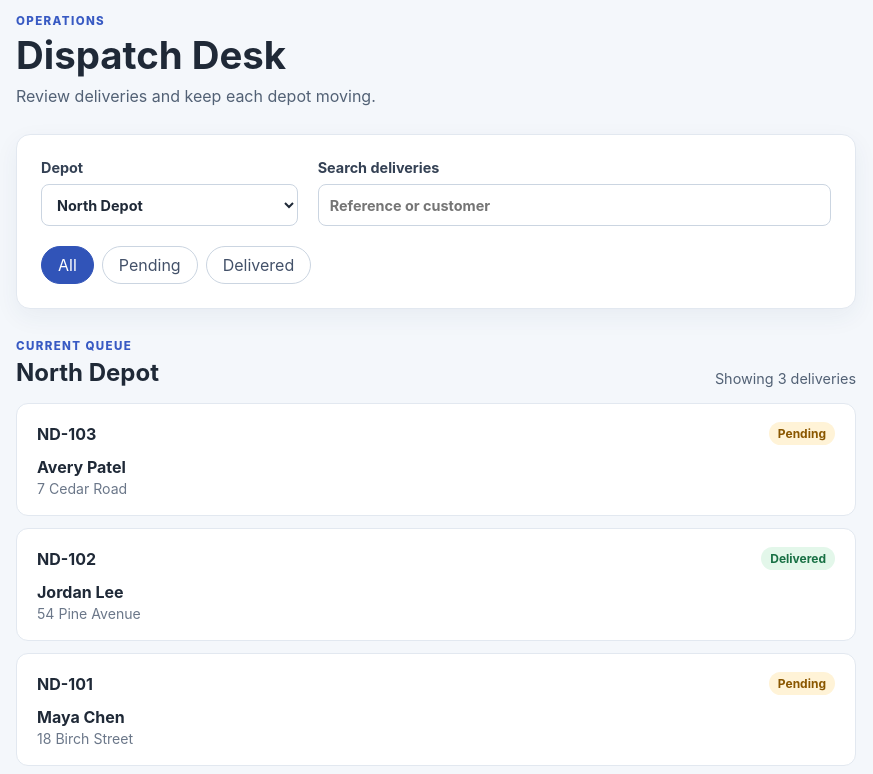
it: dispatch dashboard › keeps an active status filter when switching depots
The image size is (873, 774).
Click the button "Pending" at coordinates (150, 265), box x1=102 y1=246 x2=198 y2=284
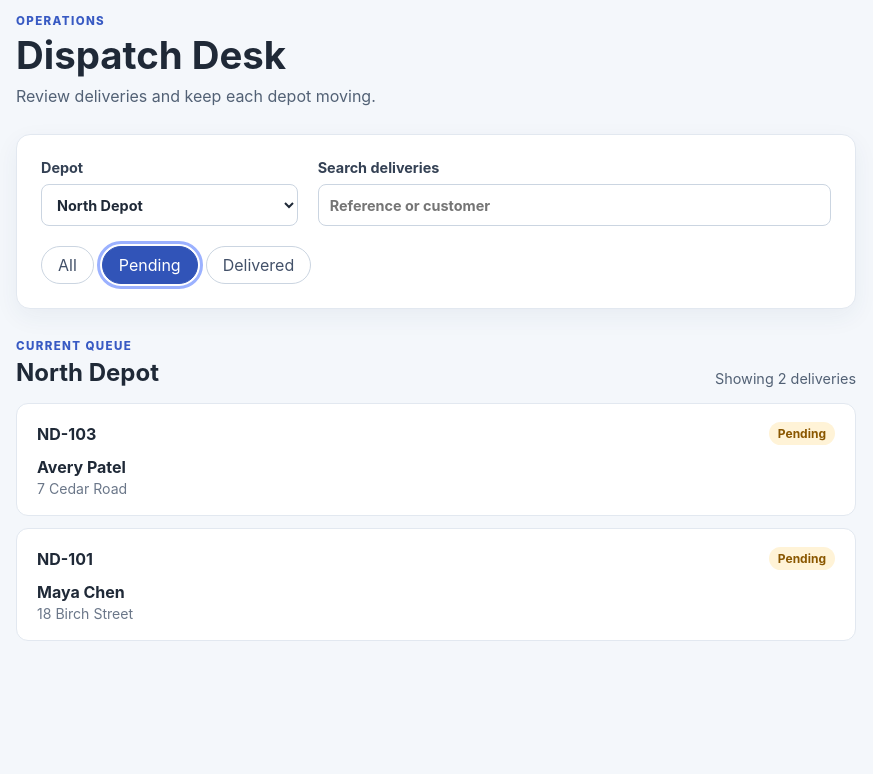
Select "South Depot" in the dropdown labelled "Depot" at coordinates (169, 205), box x1=41 y1=184 x2=298 y2=226
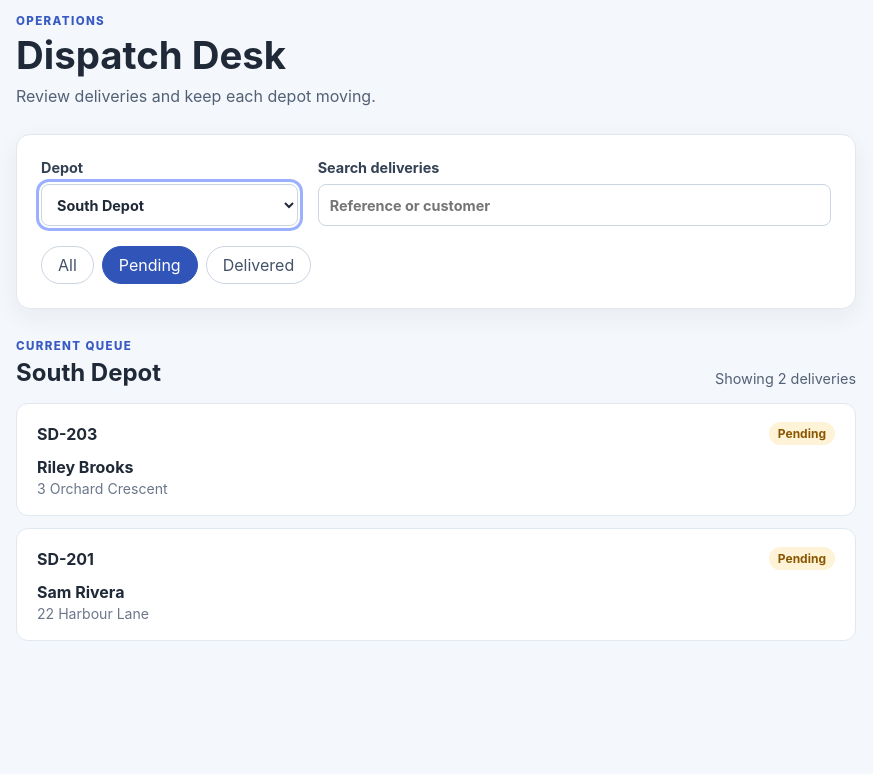
Expected: the text "Showing 2 deliveries" is shown, x1=715 y1=370 x2=856 y2=387
Expected: the text "SD-201" is shown, x1=37 y1=548 x2=94 y2=568
Expected: the text "ND-101" is gone
